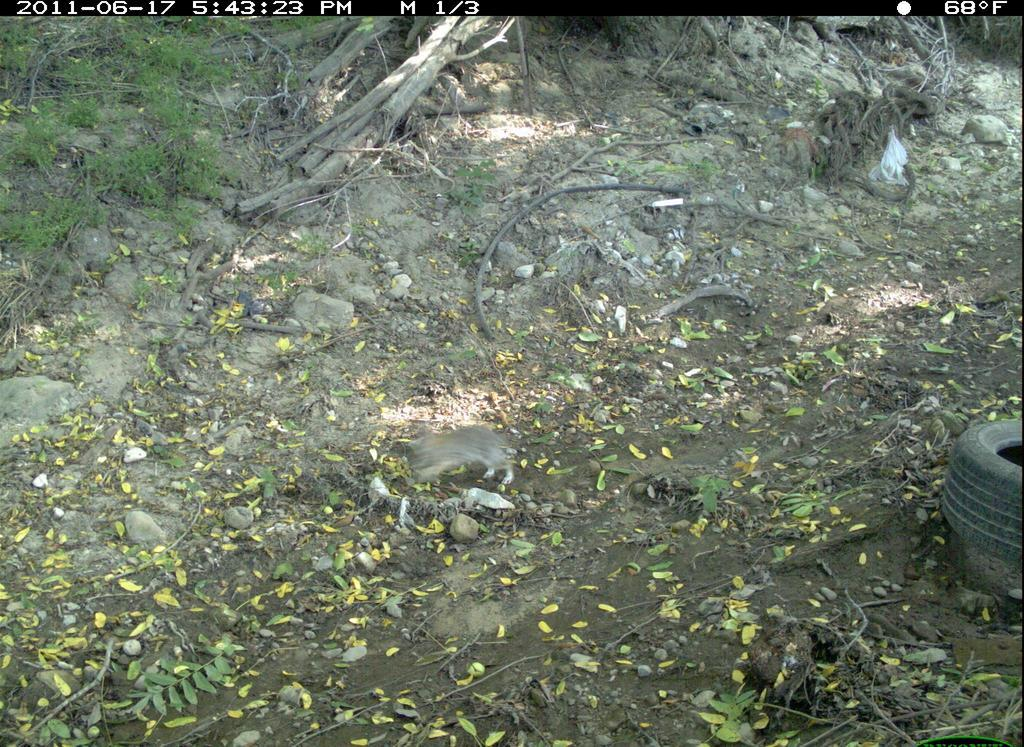rabbit: (376, 405, 529, 500)
